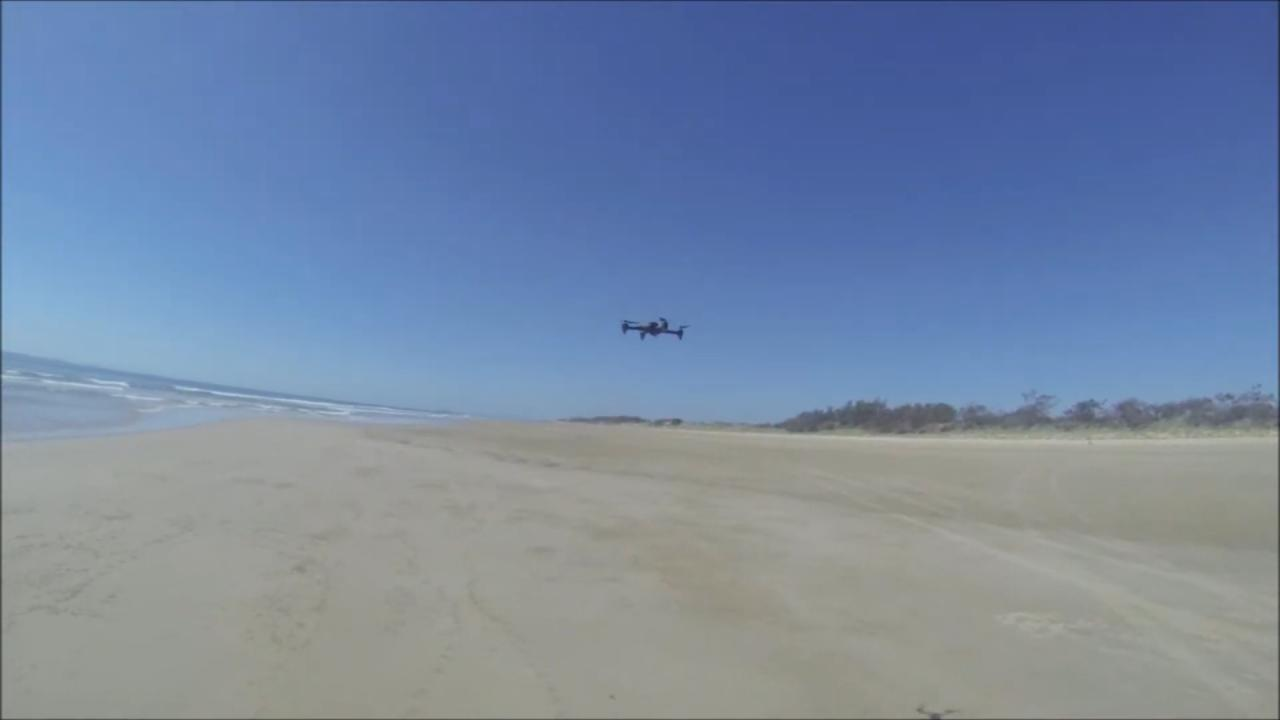Drone: (607, 307, 699, 354)
